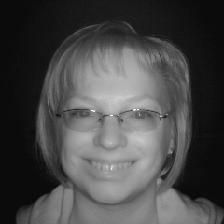happy: (31, 20, 201, 211)
